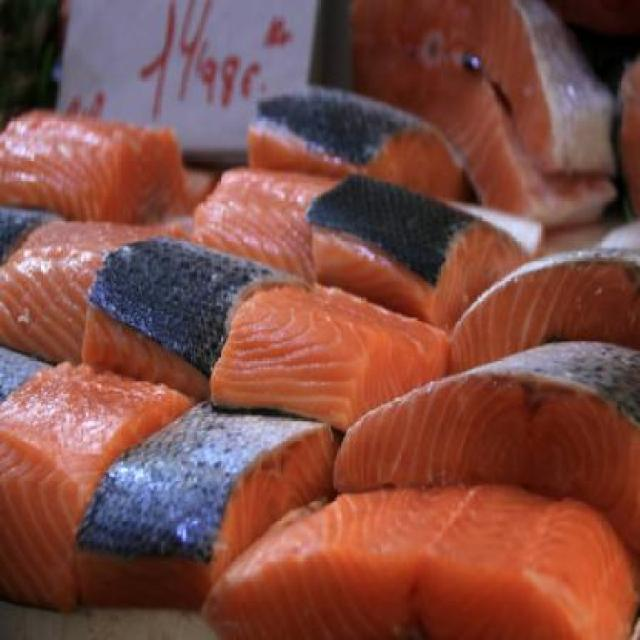salmon: (192, 452, 632, 640), (305, 323, 639, 552), (2, 350, 196, 602), (188, 274, 467, 448), (1, 195, 202, 398), (441, 237, 640, 433), (174, 150, 378, 296)
